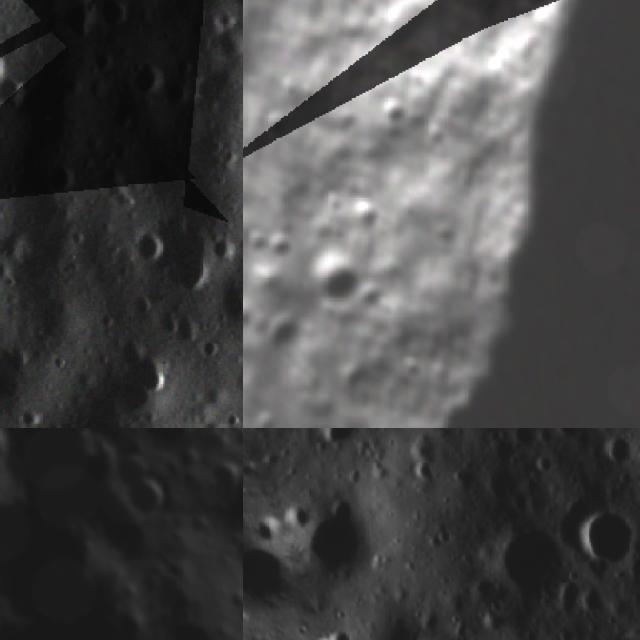crater: (288, 488, 397, 603), (485, 518, 577, 610), (156, 204, 240, 303), (289, 236, 371, 314), (105, 337, 177, 421), (569, 494, 640, 575), (116, 469, 176, 531), (376, 612, 507, 640), (27, 150, 88, 208), (129, 428, 218, 465), (149, 297, 209, 351), (255, 308, 312, 364), (197, 443, 243, 510), (122, 50, 176, 99), (130, 218, 179, 270), (152, 68, 198, 113), (95, 95, 140, 140), (598, 430, 640, 473), (0, 64, 33, 117), (322, 102, 362, 145), (209, 17, 243, 64), (265, 68, 304, 108), (312, 428, 366, 456), (311, 184, 349, 223), (348, 194, 386, 232), (392, 345, 430, 382), (570, 584, 610, 619), (96, 0, 135, 31), (243, 223, 274, 260), (449, 160, 482, 192), (0, 428, 24, 471), (217, 428, 243, 465), (368, 51, 398, 82), (264, 232, 293, 261), (343, 54, 369, 80), (402, 64, 428, 90), (325, 86, 349, 110), (310, 96, 335, 119), (296, 83, 320, 106), (490, 46, 512, 70)
